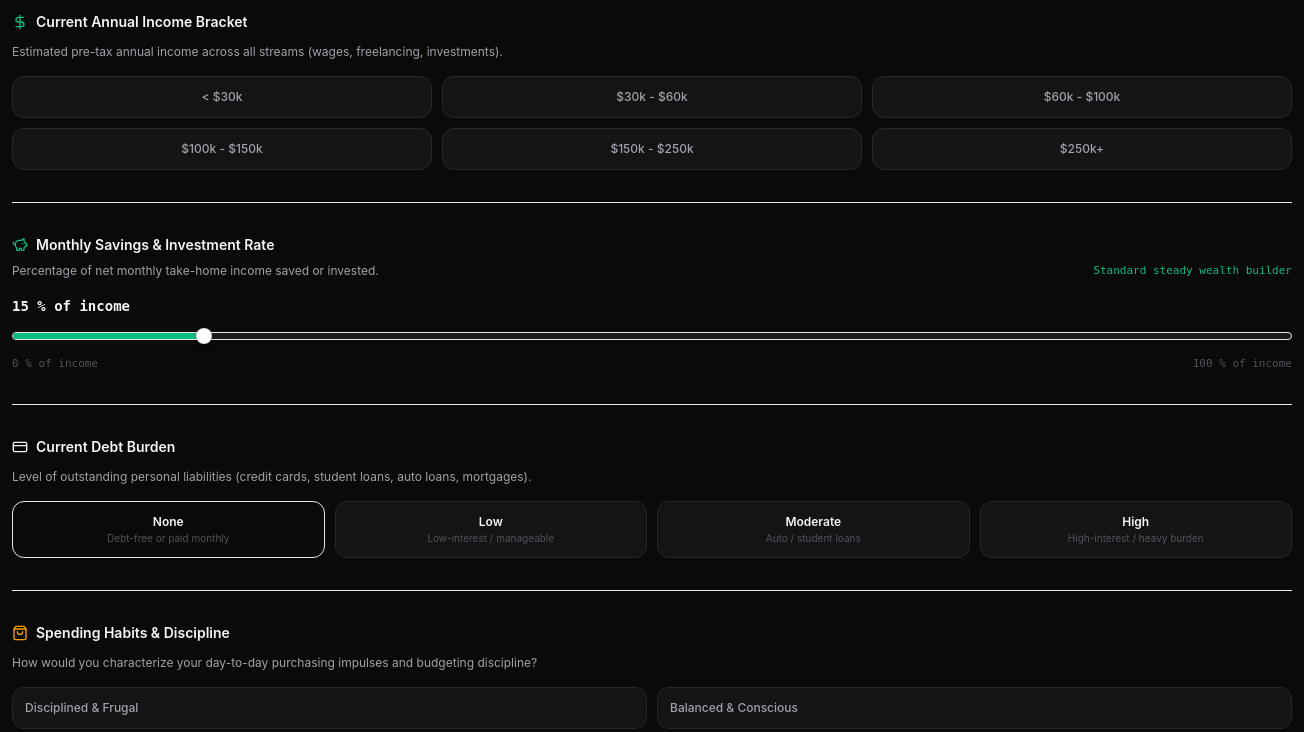
Test case: MoneyStep Component › updates savings rate when slider changes and displays dynamic note
Set the slider named "Monthly savings and investment rate percentage" to "35". click: (652, 330)
box: [12,288,1292,372]
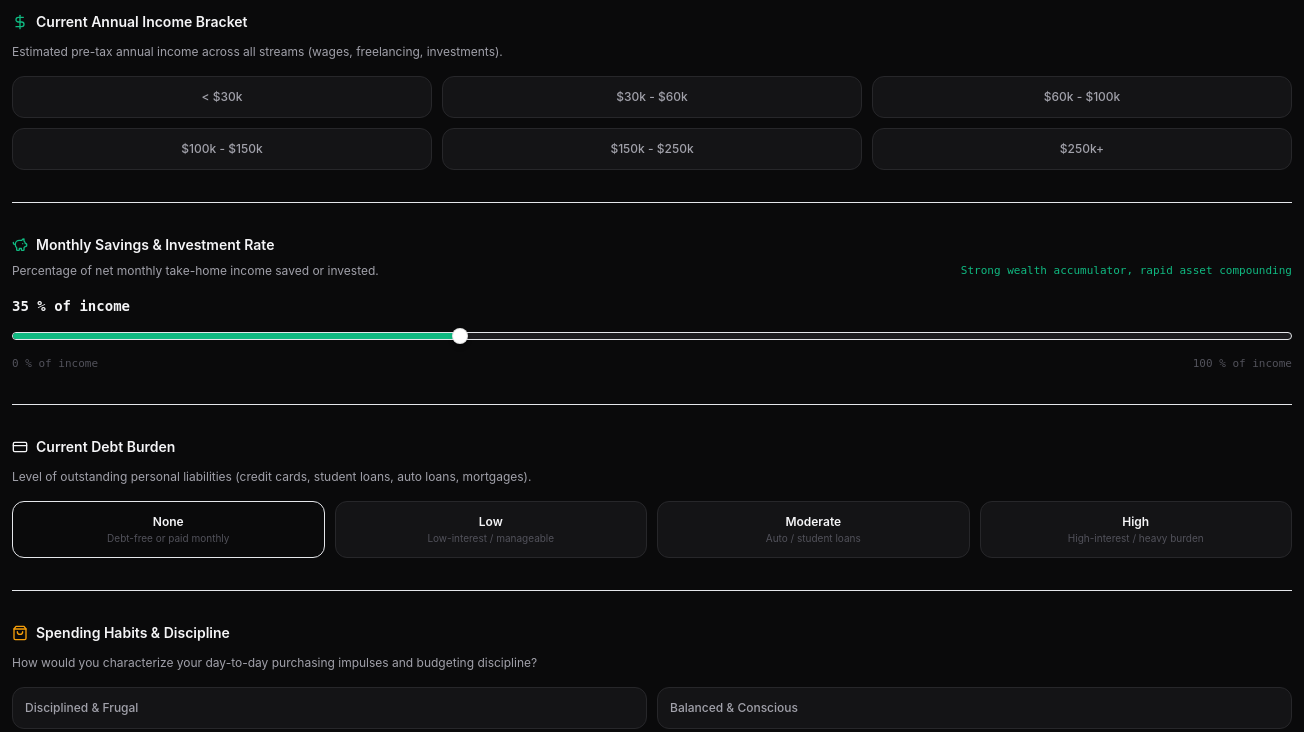
Check: the text "Strong wealth accumulator, rapid asset compounding" is shown, box [961,263,1292,280]
